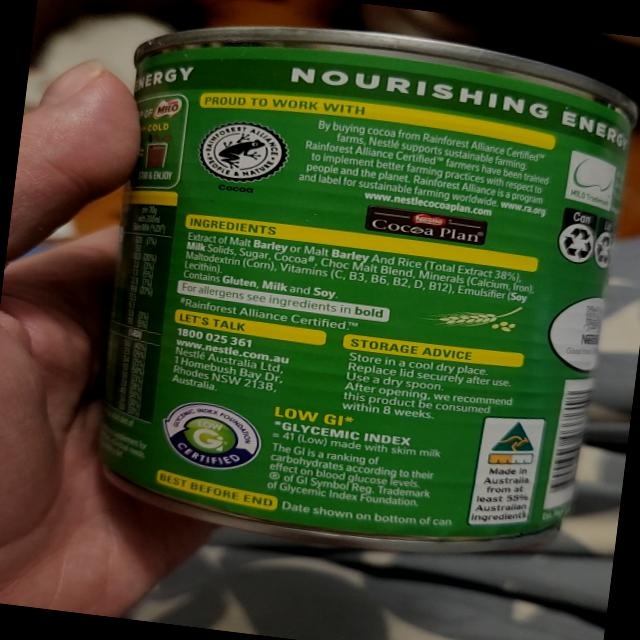nestle_milo_tin: (101, 27, 634, 550)
